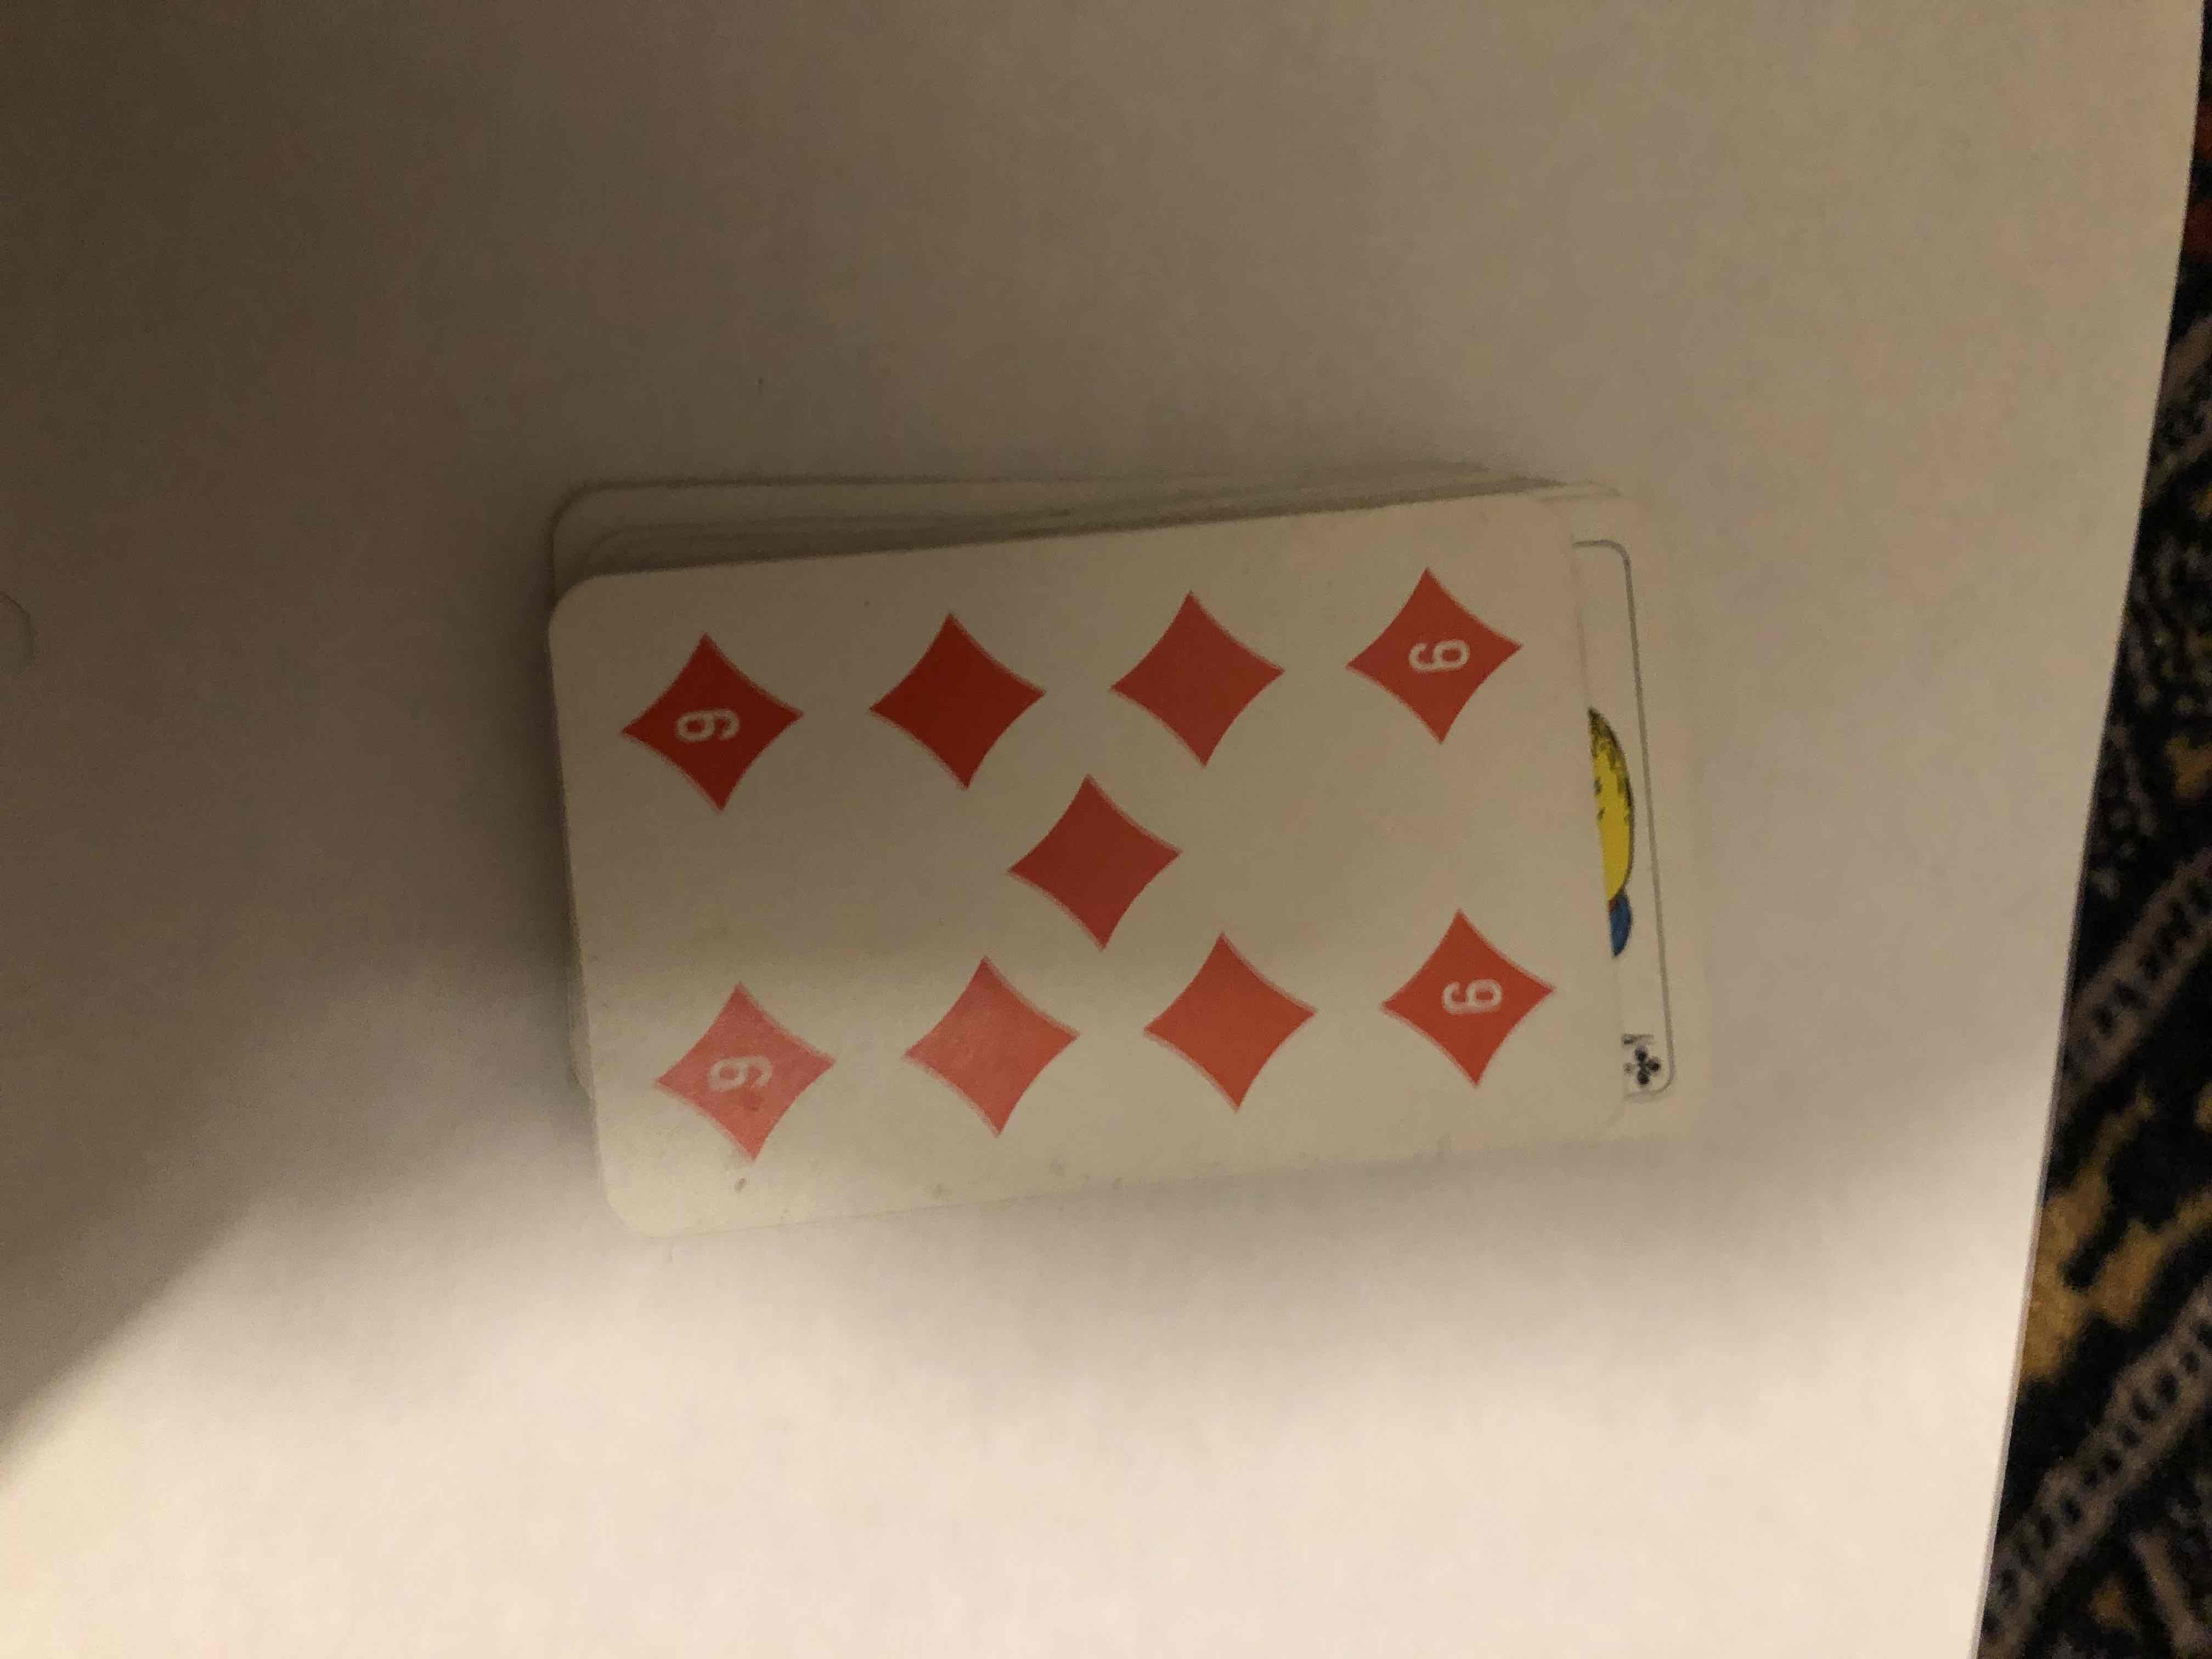diamond9: (563, 519, 1696, 1216)
